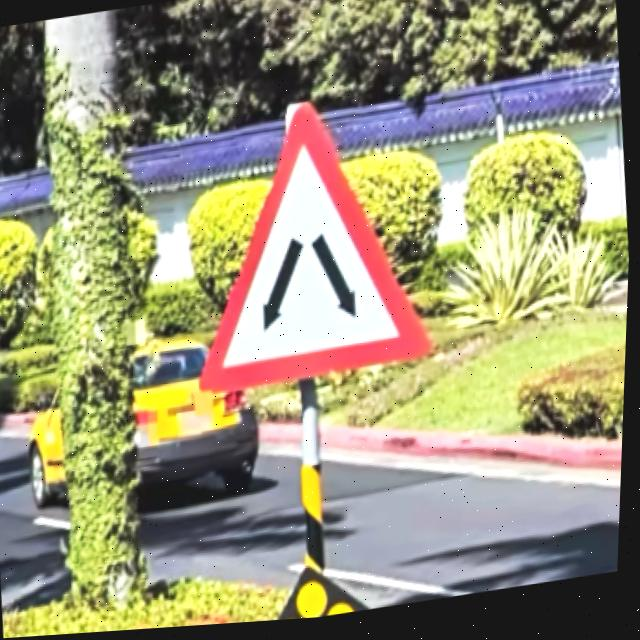diverge: (202, 107, 438, 395)
